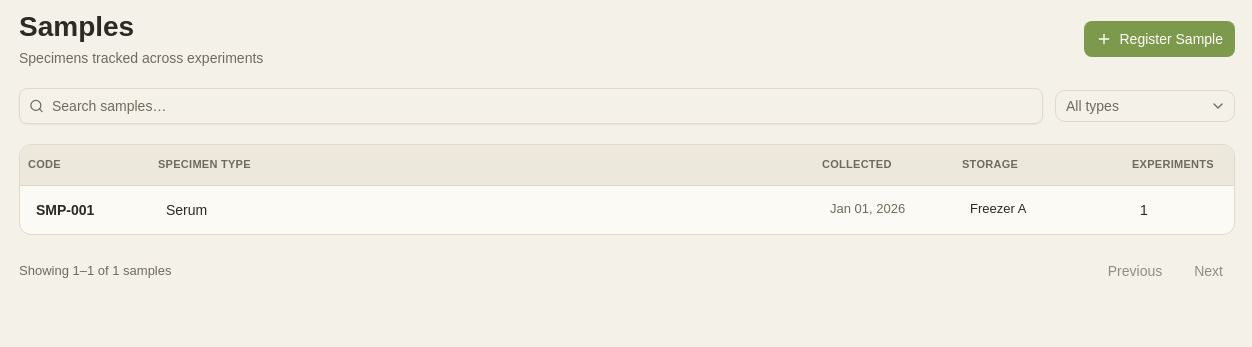
SamplesPage › should filter out rows that do not match the search
Type "zzz" into the field with placeholder "Search samples…" at (531, 106), box [19, 88, 1043, 124]
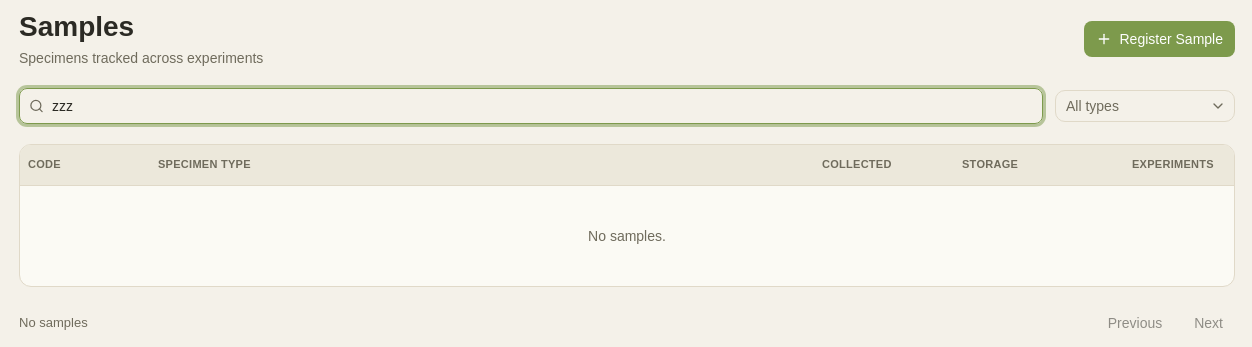
Now the text "SMP-001" is gone
